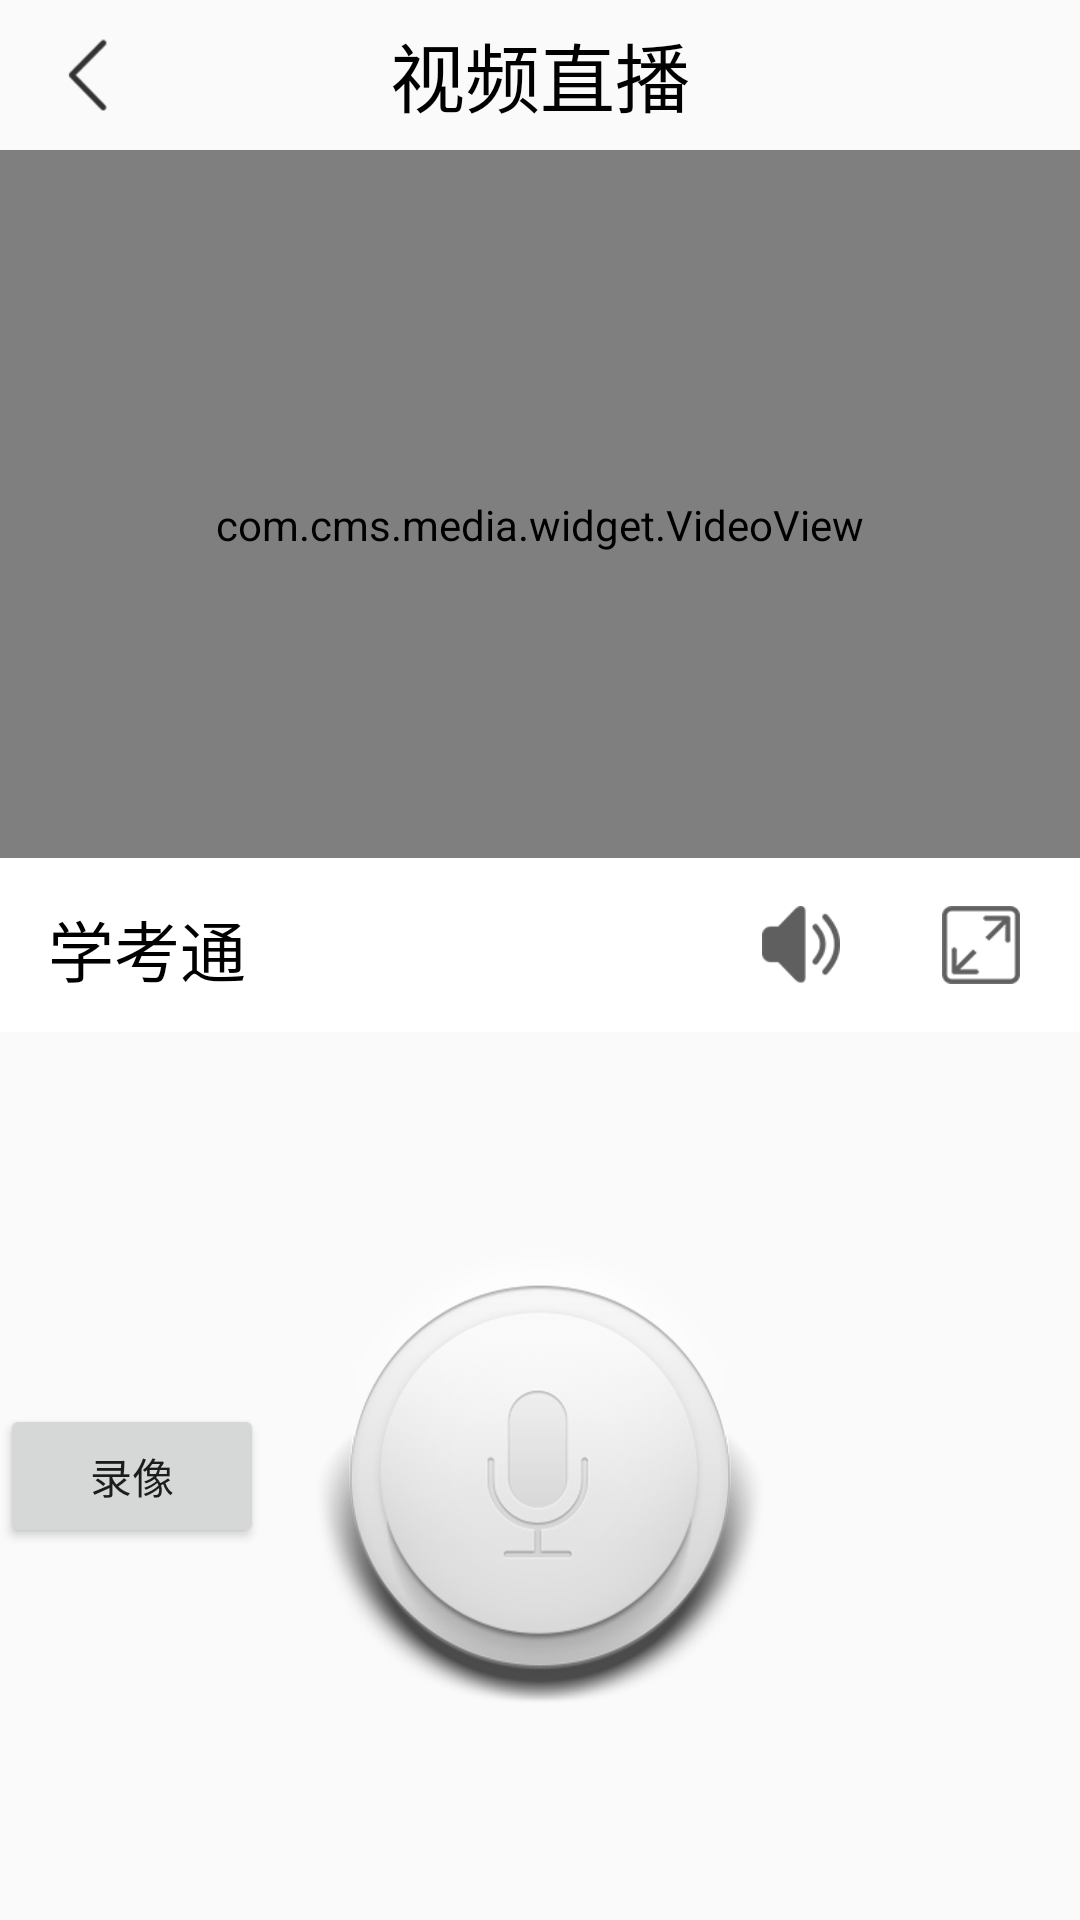

Locate icon controls on the screen. Image size 1080w x 1920h, boxes as (x1, y1, x2, y2).
back: (69, 39, 107, 111)
full screen: (942, 906, 1020, 984)
